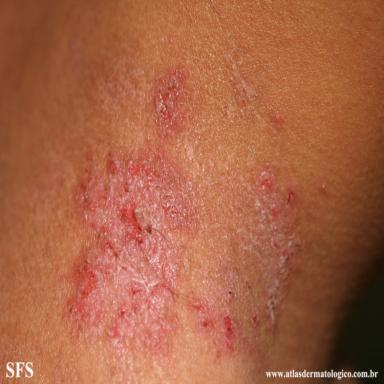Hailey-Hailey-Disease: (71, 152, 196, 354), (234, 165, 300, 333), (192, 290, 244, 349), (155, 67, 188, 135)
